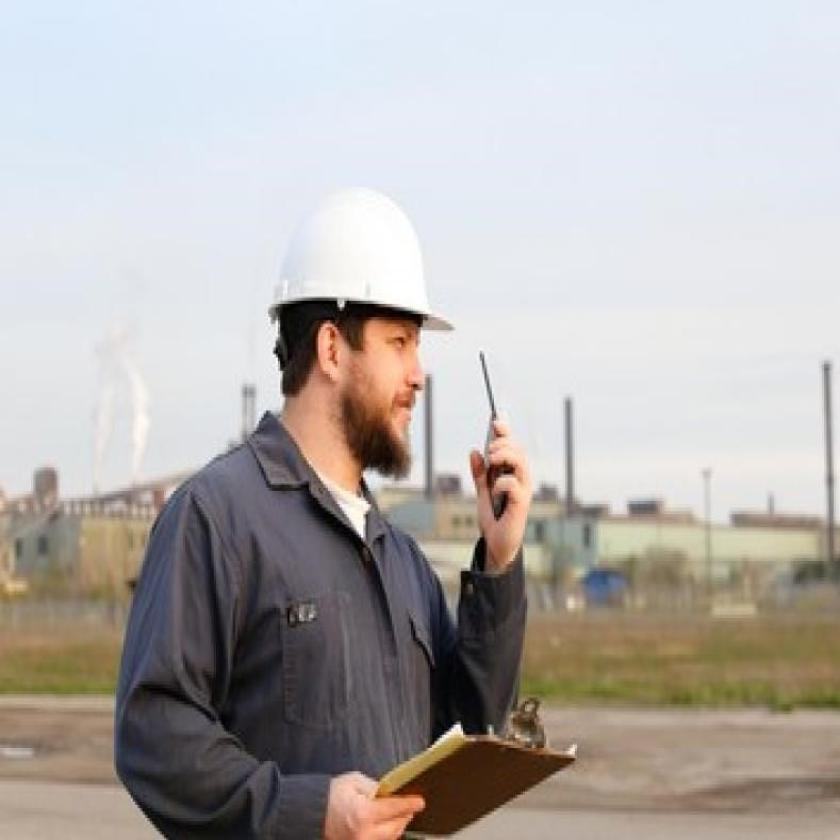Con_casco: (255, 173, 463, 511)
